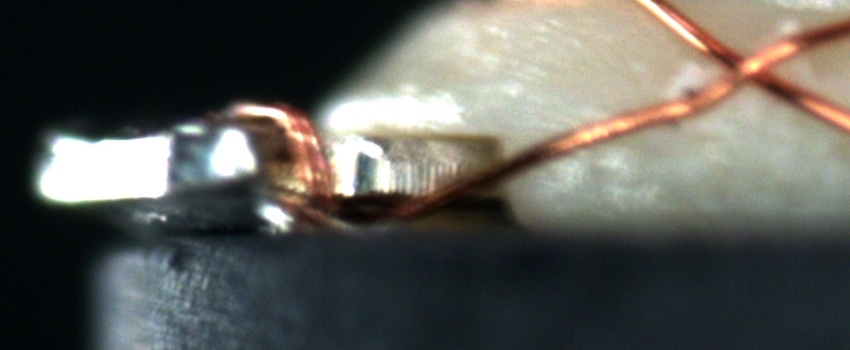CL: (697, 39, 786, 103)
TE: (222, 91, 347, 216)
